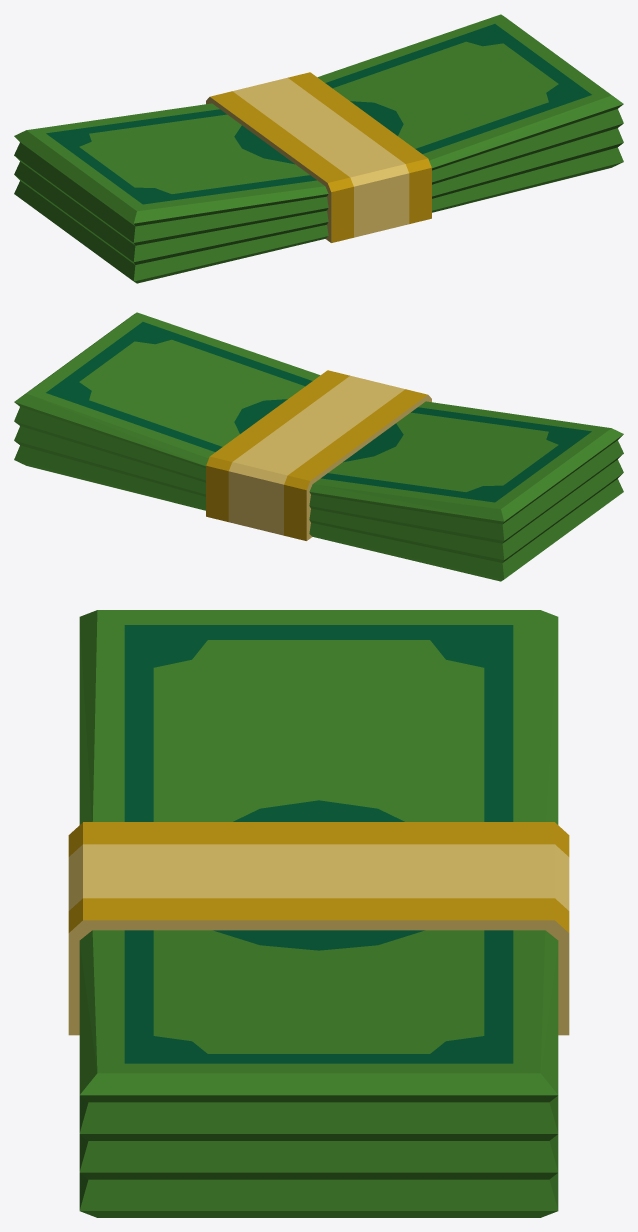
The model's file is banknote.glb.
The picture shows the model from 3 angles, top to bottom: view 1: azimuth 30°, elevation 25°; view 2: azimuth 150°, elevation 25°; view 3: azimuth 270°, elevation 25°; orthographic projection. The views are drawn at different scales.
Parts seen in each view (by area): view 1: banded-cash-bundle; view 2: banded-cash-bundle; view 3: banded-cash-bundle.
Boxes of the visible parts, x1,y1,x2,y2 form: banded-cash-bundle: [14, 14, 623, 283]; banded-cash-bundle: [14, 312, 623, 581]; banded-cash-bundle: [68, 610, 569, 1217].
Size of the model in its own units: 0.156 by 0.022 by 0.069.
